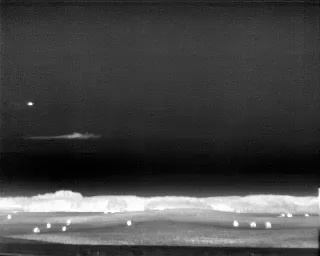BIRD: (26, 99, 35, 109)
